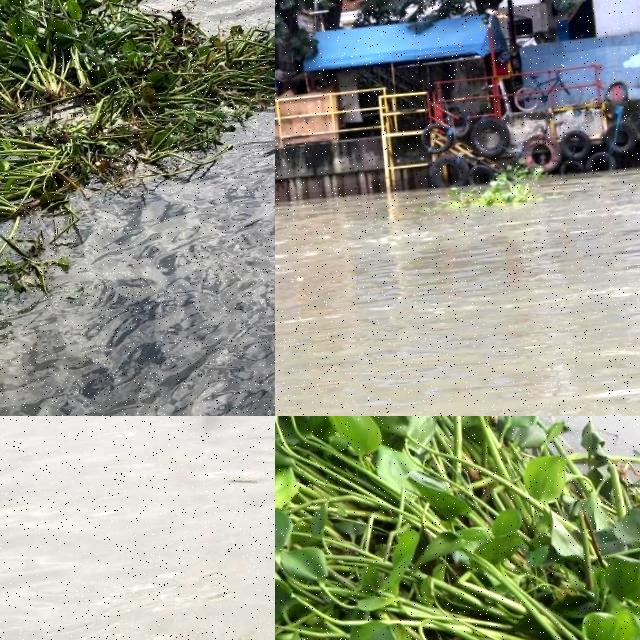water-hyacinth: (276, 417, 640, 640), (1, 1, 276, 295), (444, 162, 550, 212), (1, 78, 38, 133)
